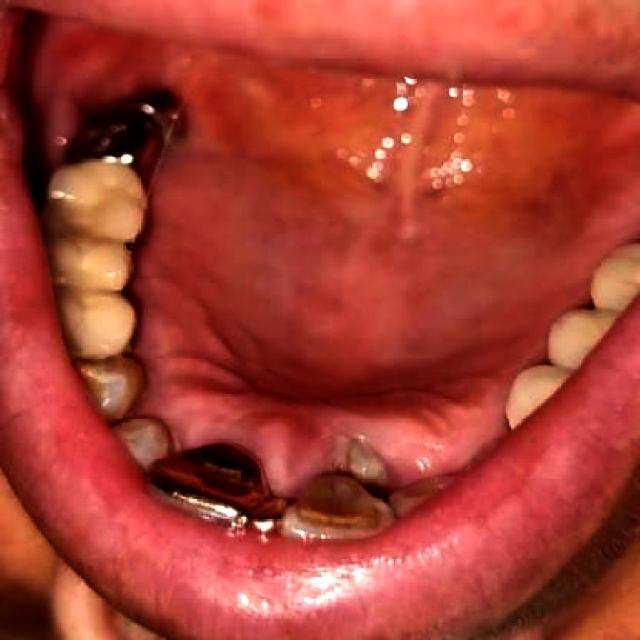Plaque: (265, 434, 411, 493)
